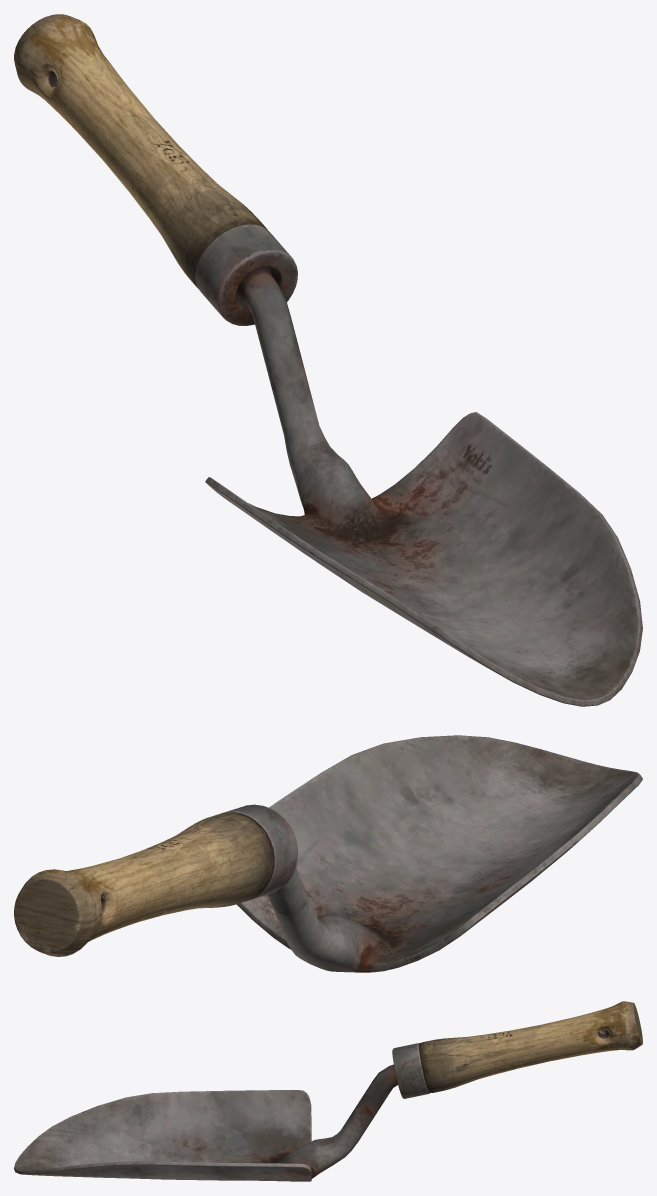
File: ph-trowel-01.glb
3 renders of one model, top to bottom at view 1: azimuth 30°, elevation 25°; view 2: azimuth 150°, elevation 25°; view 3: azimuth 270°, elevation 25°, orthographic. The views are drawn at different scales.
Visible parts, largest first — view 1: trowel_01; view 2: trowel_01; view 3: trowel_01.
Boxes of the visible parts, x1,y1,x2,y2 form: trowel_01: (14, 14, 642, 706); trowel_01: (14, 735, 642, 972); trowel_01: (14, 1001, 642, 1181).
Bounding box in the file's own units: 0.0991 × 0.1026 × 0.3469.
1 material, 1 textured.
